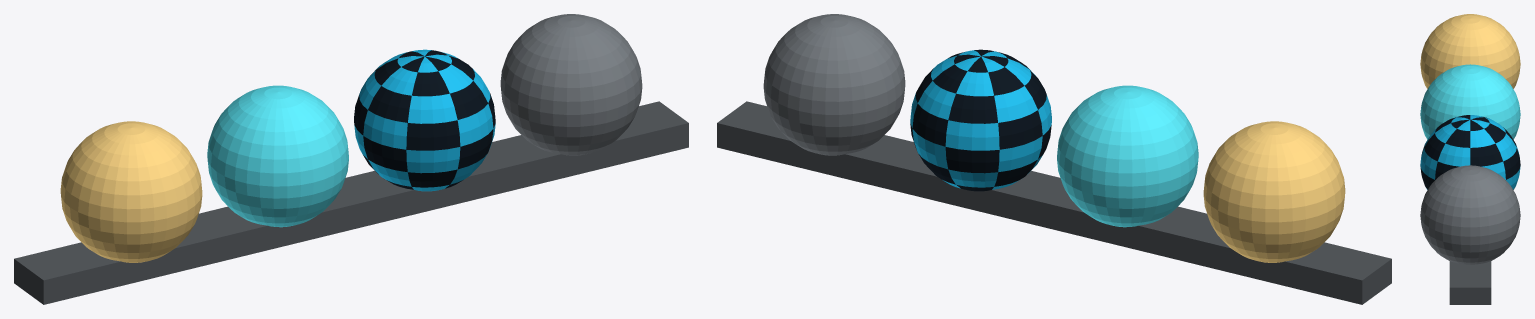
The model's file is material_samples.gltf.
The picture shows the model from 3 angles, left to right: view 1: azimuth 30°, elevation 25°; view 2: azimuth 150°, elevation 25°; view 3: azimuth 270°, elevation 25°; orthographic projection. The views are drawn at different scales.
Visible parts, largest first — view 1: SampleBase, GoldMetal, TexturedChecker, SpecularCyan, MatteGraphite; view 2: SampleBase, GoldMetal, TexturedChecker, SpecularCyan, MatteGraphite; view 3: MatteGraphite, GoldMetal, TexturedChecker, SpecularCyan, SampleBase.
Boxes of the visible parts, x1=… form: SampleBase: x1=14, y1=101, x2=688, y2=304; GoldMetal: x1=60, y1=121, x2=202, y2=262; TexturedChecker: x1=354, y1=49, x2=495, y2=191; SpecularCyan: x1=207, y1=85, x2=348, y2=227; MatteGraphite: x1=500, y1=14, x2=642, y2=155; SampleBase: x1=717, y1=101, x2=1391, y2=304; GoldMetal: x1=1203, y1=121, x2=1345, y2=262; TexturedChecker: x1=910, y1=49, x2=1051, y2=191; SpecularCyan: x1=1057, y1=85, x2=1198, y2=227; MatteGraphite: x1=763, y1=14, x2=905, y2=155; MatteGraphite: x1=1420, y1=165, x2=1520, y2=264; GoldMetal: x1=1420, y1=14, x2=1520, y2=88; TexturedChecker: x1=1420, y1=115, x2=1520, y2=189; SpecularCyan: x1=1420, y1=64, x2=1520, y2=139; SampleBase: x1=1449, y1=261, x2=1491, y2=304.
Size of the model in its own units: 4.4 by 0.92 by 0.84.
Materials: 5 (1 with a texture image).
